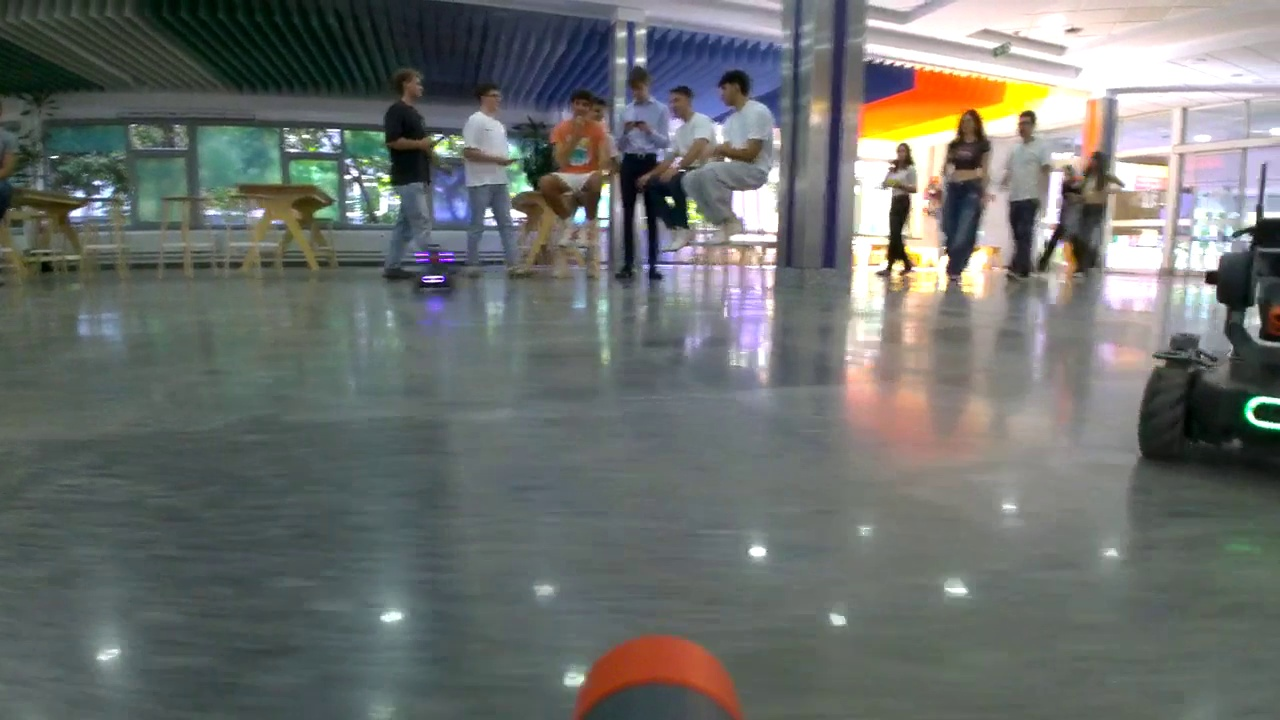robot: (1136, 162, 1280, 467), (411, 245, 457, 297)
